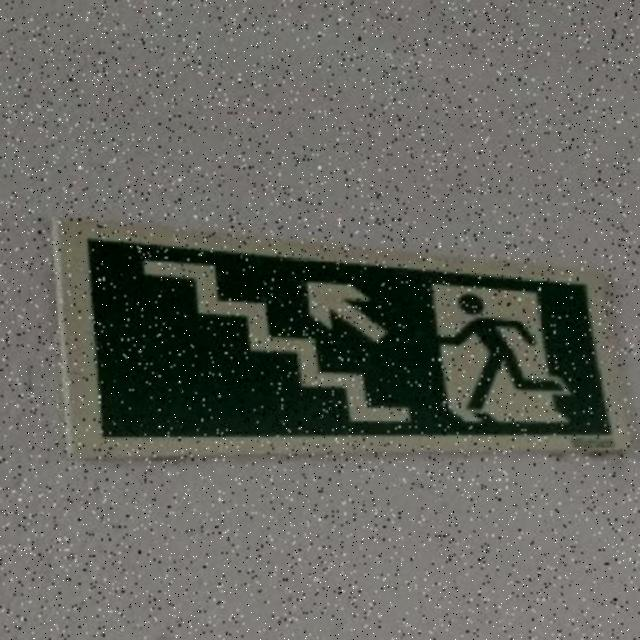emergency_exit: (58, 218, 616, 460)
